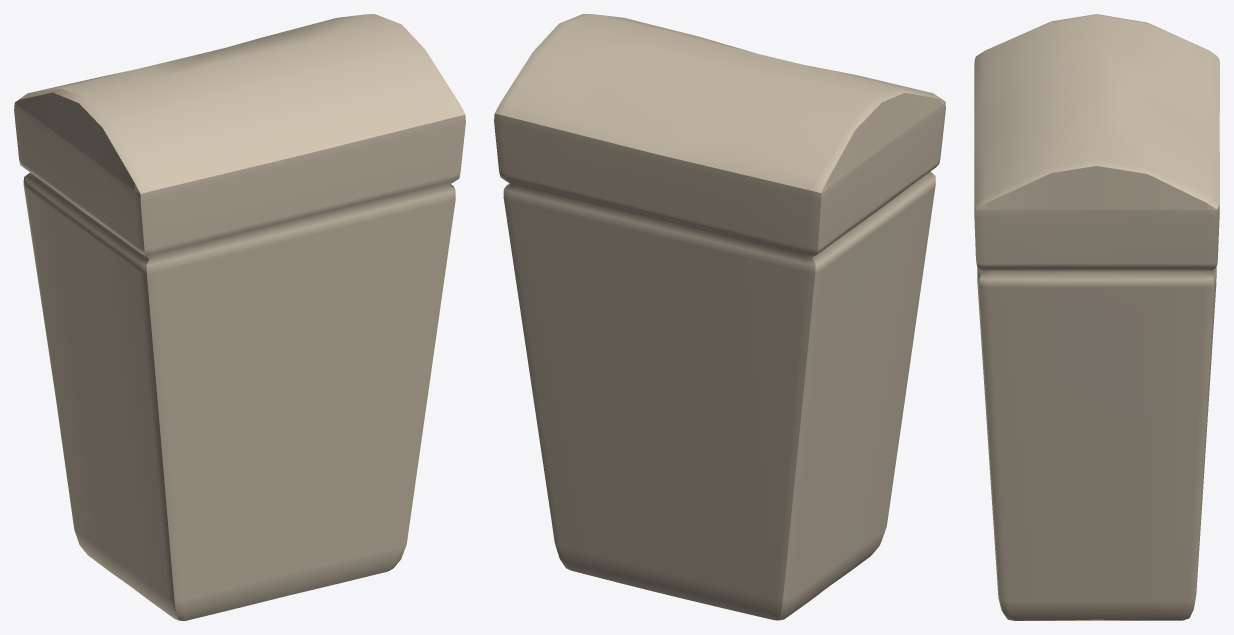
File: trash_can_2_22_L.fbx
3 views of the same model, side by side, from view 1: azimuth 30°, elevation 25°; view 2: azimuth 150°, elevation 25°; view 3: azimuth 270°, elevation 25° (orthographic). The views are drawn at different scales.
Parts seen in each view (by area): view 1: trash_can_2_22_L; view 2: trash_can_2_22_L; view 3: trash_can_2_22_L.
Part boxes in pixels (x1,y1,x2,y2): trash_can_2_22_L: (14,14,465,620); trash_can_2_22_L: (494,14,945,620); trash_can_2_22_L: (974,14,1219,620).
Size of the model in its own units: 5.45 by 8.03 by 3.67.
